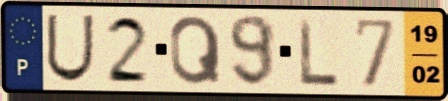2: (102, 14, 152, 85)
7: (353, 17, 398, 90)
9: (227, 13, 279, 90)
L: (297, 16, 342, 88)
Q: (167, 14, 224, 87)
U: (44, 12, 97, 84)
